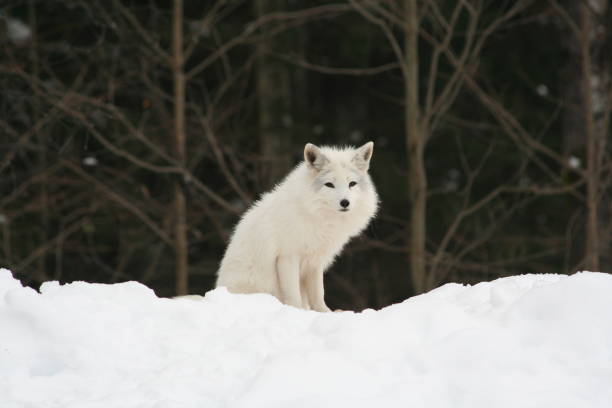arcticfox: (308, 163, 354, 222)
